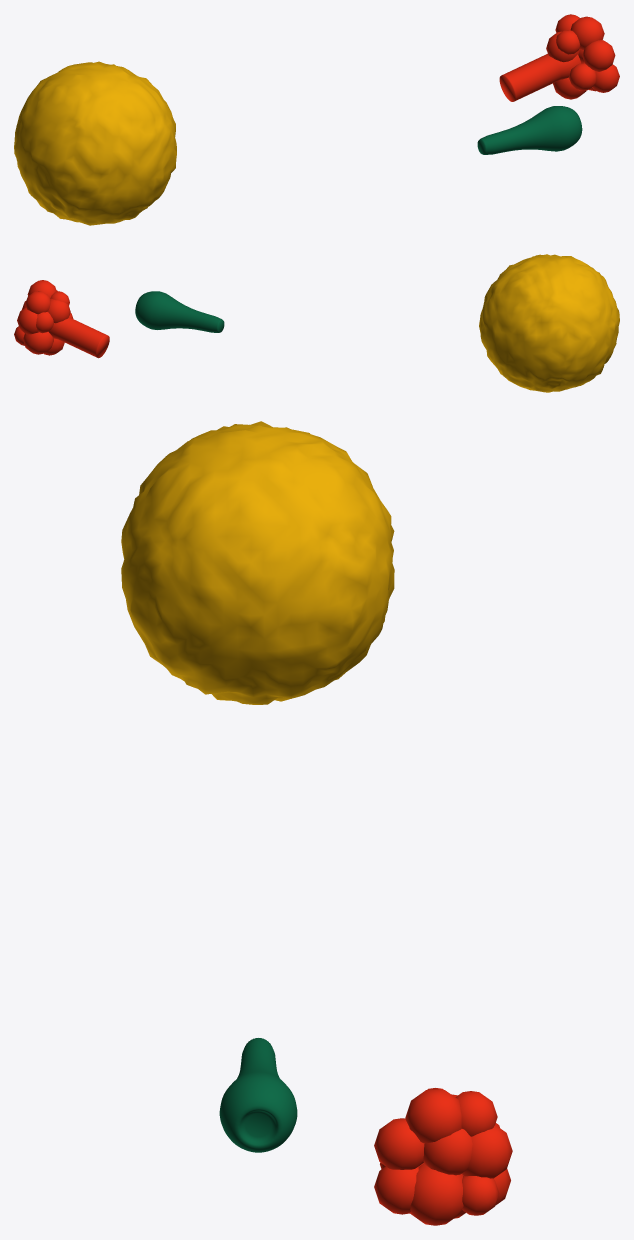
The model's file is Corona.dae.
3 views of the same model, one above another, from view 1: azimuth 30°, elevation 25°; view 2: azimuth 150°, elevation 25°; view 3: azimuth 270°, elevation 25° (orthographic). The views are drawn at different scales.
Parts seen in each view (by area): view 1: Куб, Цилиндр.001, Цилиндр; view 2: Куб, Цилиндр.001, Цилиндр; view 3: Куб, Цилиндр.001, Цилиндр.
Part boxes in pixels (x1,y1,x2,y2): Куб: [14, 61, 176, 225]; Цилиндр.001: [499, 14, 619, 101]; Цилиндр: [477, 106, 582, 154]; Куб: [479, 254, 619, 392]; Цилиндр.001: [14, 280, 109, 358]; Цилиндр: [135, 291, 224, 332]; Куб: [121, 421, 394, 704]; Цилиндр.001: [374, 1088, 512, 1225]; Цилиндр: [219, 1038, 297, 1152].
Size of the model in its own units: 9.08 by 2.83 by 2.67.
